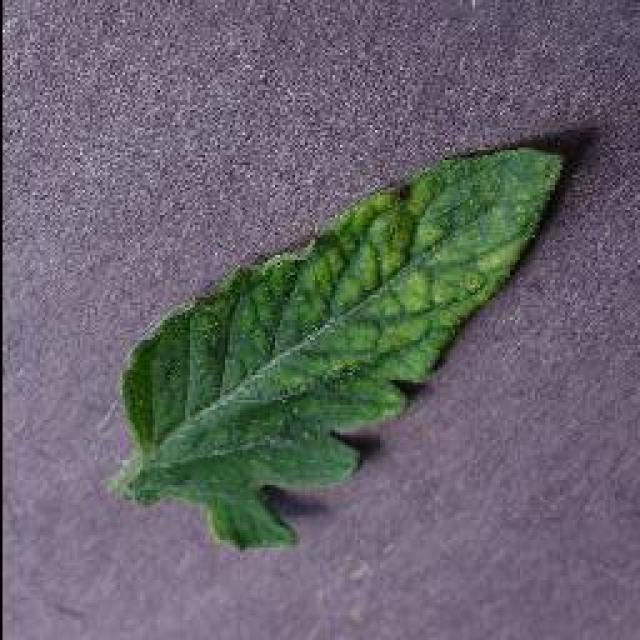Tomato___Tomato_mosaic_virus: (115, 142, 560, 542)
